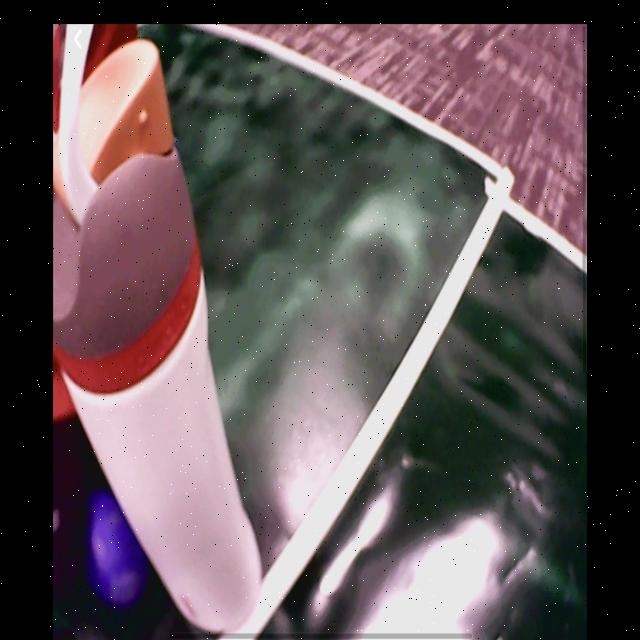ball: (88, 492, 151, 607)
